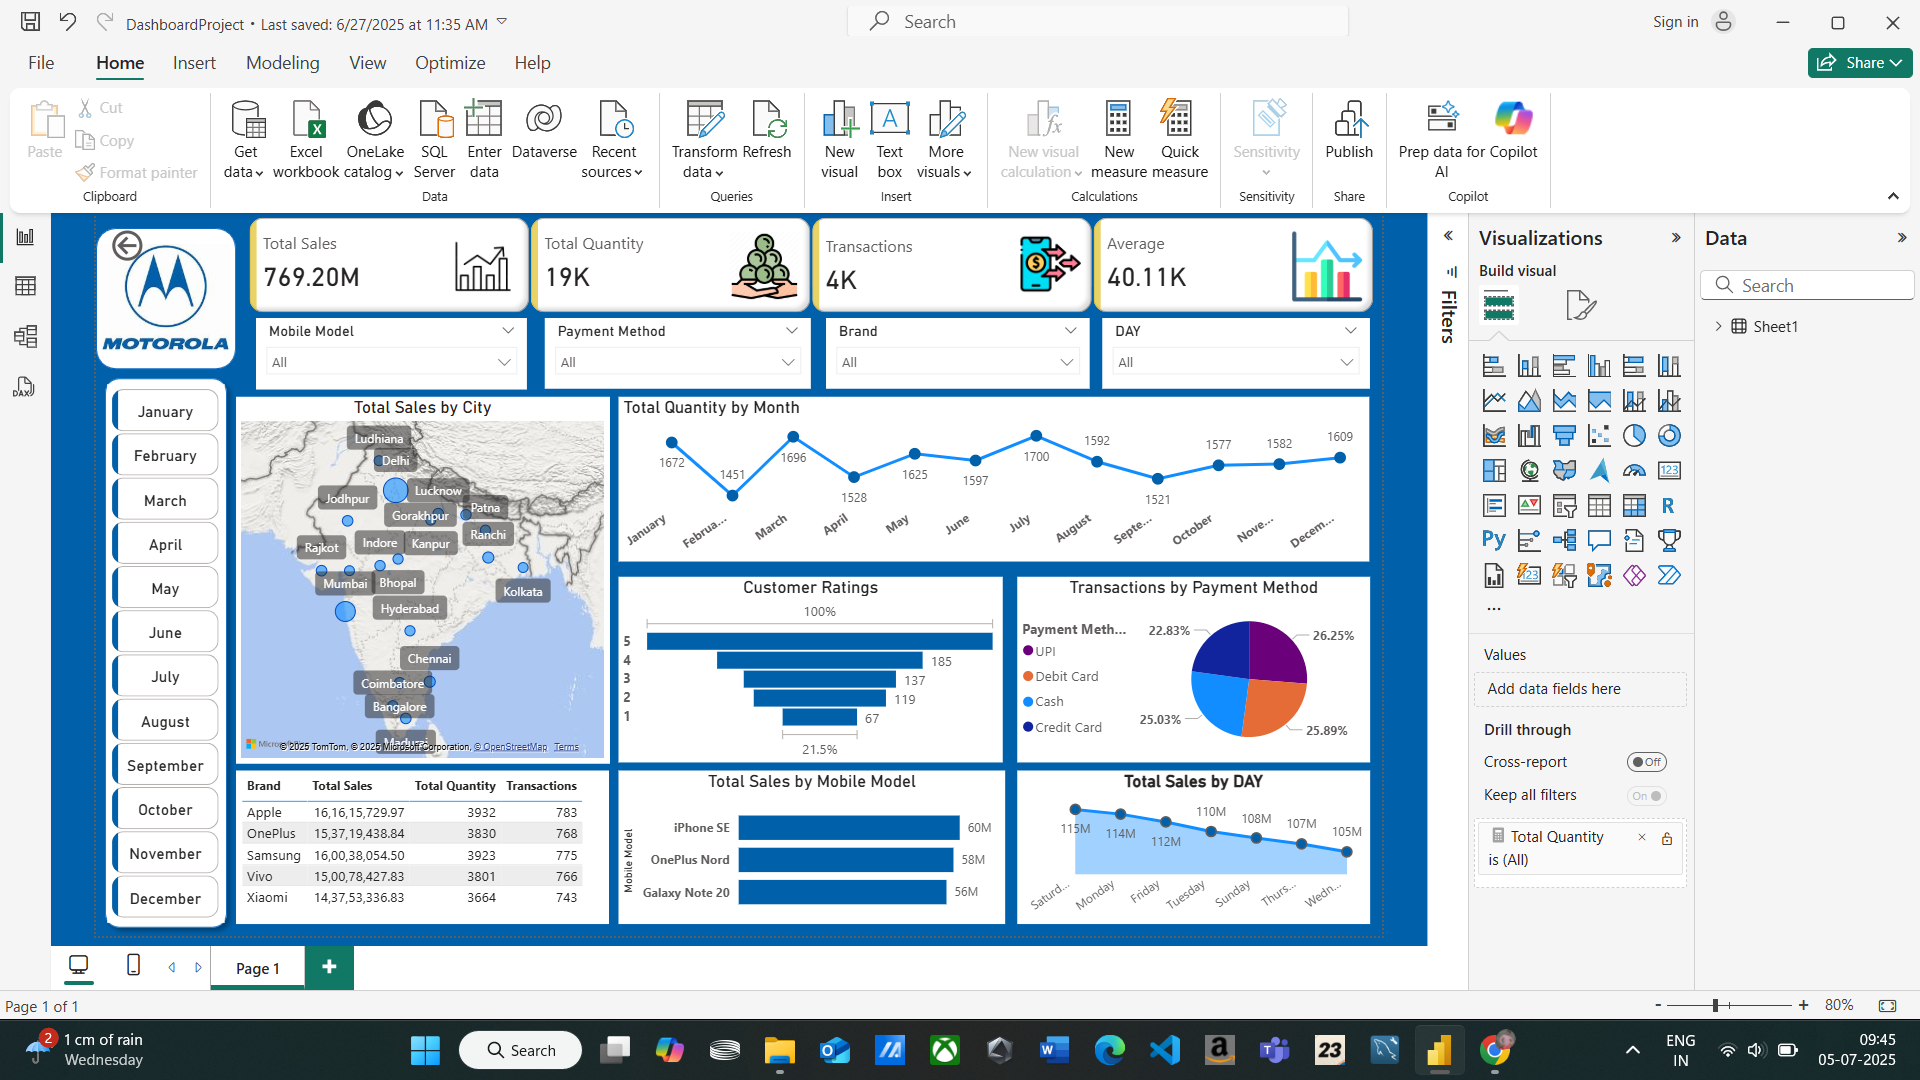

What the dashboard file says about the page in this screenshot:
{"tool":"powerbi","page":{"name":"Page 1","canvas":[1280,720],"ordinal":0},"visuals":[{"type":"shape","box":[0,14.9,139.3,140.6],"z":0},{"type":"image","box":[0,12.5,138.8,142.5],"z":1000},{"type":"shape","box":[0,155.5,139.3,564.8],"z":2000},{"type":"advancedSlicerVisual","fields":{"Values":["Sheet1.DATE.Variation.Date Hierarchy.Month"]},"box":[11.2,170.4,116.9,536.1],"z":3000},{"type":"cardVisual","fields":{"Data":["Sheet1.Total Sales","Sheet1.Total Quantity","Sheet1.Transactions","Sheet1.Average"]},"box":[148,0,1129.5,104.5],"z":4000},{"type":"map","fields":{"Category":["Sheet1.City"],"Size":["Sheet1.Total Sales"]},"box":[138.8,182.5,371.2,365],"z":5000},{"type":"lineChart","fields":{"Y":["Sheet1.Total Quantity"],"Category":["Sheet1.DATE.Variation.Date Hierarchy.Month","Sheet1.DATE.Variation.Date Hierarchy.Day"]},"box":[520,182.5,747.5,163.8],"z":6000},{"type":"barChart","fields":{"Category":["Sheet1.Mobile Model"],"Y":["Sheet1.Total Sales"]},"box":[520,555,385,152.5],"z":7000},{"type":"pieChart","fields":{"Category":["Sheet1.Payment Method"],"Y":["Sheet1.Transactions"]},"box":[916.2,362.5,351.2,185],"z":8000},{"type":"funnel","title":"  Customer Ratings","fields":{"Category":["Sheet1.Customer Ratings"],"Y":["CountNonNull(Sheet1.Customer Ratings)"]},"box":[520,362.5,382.5,185],"z":9000},{"type":"areaChart","fields":{"Category":["Sheet1.DAY"],"Y":["Sheet1.Total Sales"]},"box":[916.2,555,351.2,152.5],"z":10000},{"type":"tableEx","fields":{"Values":["Sheet1.Brand","Sheet1.Total Sales","Sheet1.Total Quantity","Sheet1.Transactions"]},"box":[138.8,555,371.2,152.5],"z":11000},{"type":"actionButton","box":[11.2,12.5,100,40],"z":12000},{"type":"slicer","fields":{"Values":["Sheet1.Mobile Model"]},"box":[159.2,104.5,269.9,70.9],"z":13000},{"type":"slicer","fields":{"Values":["Sheet1.Payment Method"]},"box":[446.2,105,265,70],"z":14000},{"type":"slicer","fields":{"Values":["Sheet1.Brand"]},"box":[726.2,105,262.5,70],"z":15000},{"type":"slicer","fields":{"Values":["Sheet1.DAY"]},"box":[1001.2,105,266.2,70],"z":16000}]}

Visuals, with their boxes on the page's 1280x720 design canvas (x1, y1, x2, y2). These are canvas units, not pixel positions in the 1920x1080 screenshot, which may show the page scaled, cropped or inside an application window:
shape: 0/15/139/156
image: 0/12/139/155
shape: 0/156/139/720
advancedSlicerVisual - Sheet1.DATE.Variation.Date Hierarchy.Month: 11/170/128/706
cardVisual - Sheet1.Total Sales x Sheet1.Total Quantity: 148/0/1278/104
map - Sheet1.City x Sheet1.Total Sales: 139/182/510/548
lineChart - Sheet1.Total Quantity x Sheet1.DATE.Variation.Date Hierarchy.Month: 520/182/1268/346
barChart - Sheet1.Mobile Model x Sheet1.Total Sales: 520/555/905/708
pieChart - Sheet1.Payment Method x Sheet1.Transactions: 916/362/1267/548
"  Customer Ratings" funnel: 520/362/902/548
areaChart - Sheet1.DAY x Sheet1.Total Sales: 916/555/1267/708
tableEx - Sheet1.Brand x Sheet1.Total Sales: 139/555/510/708
actionButton: 11/12/111/52
slicer - Sheet1.Mobile Model: 159/104/429/175
slicer - Sheet1.Payment Method: 446/105/711/175
slicer - Sheet1.Brand: 726/105/989/175
slicer - Sheet1.DAY: 1001/105/1267/175
